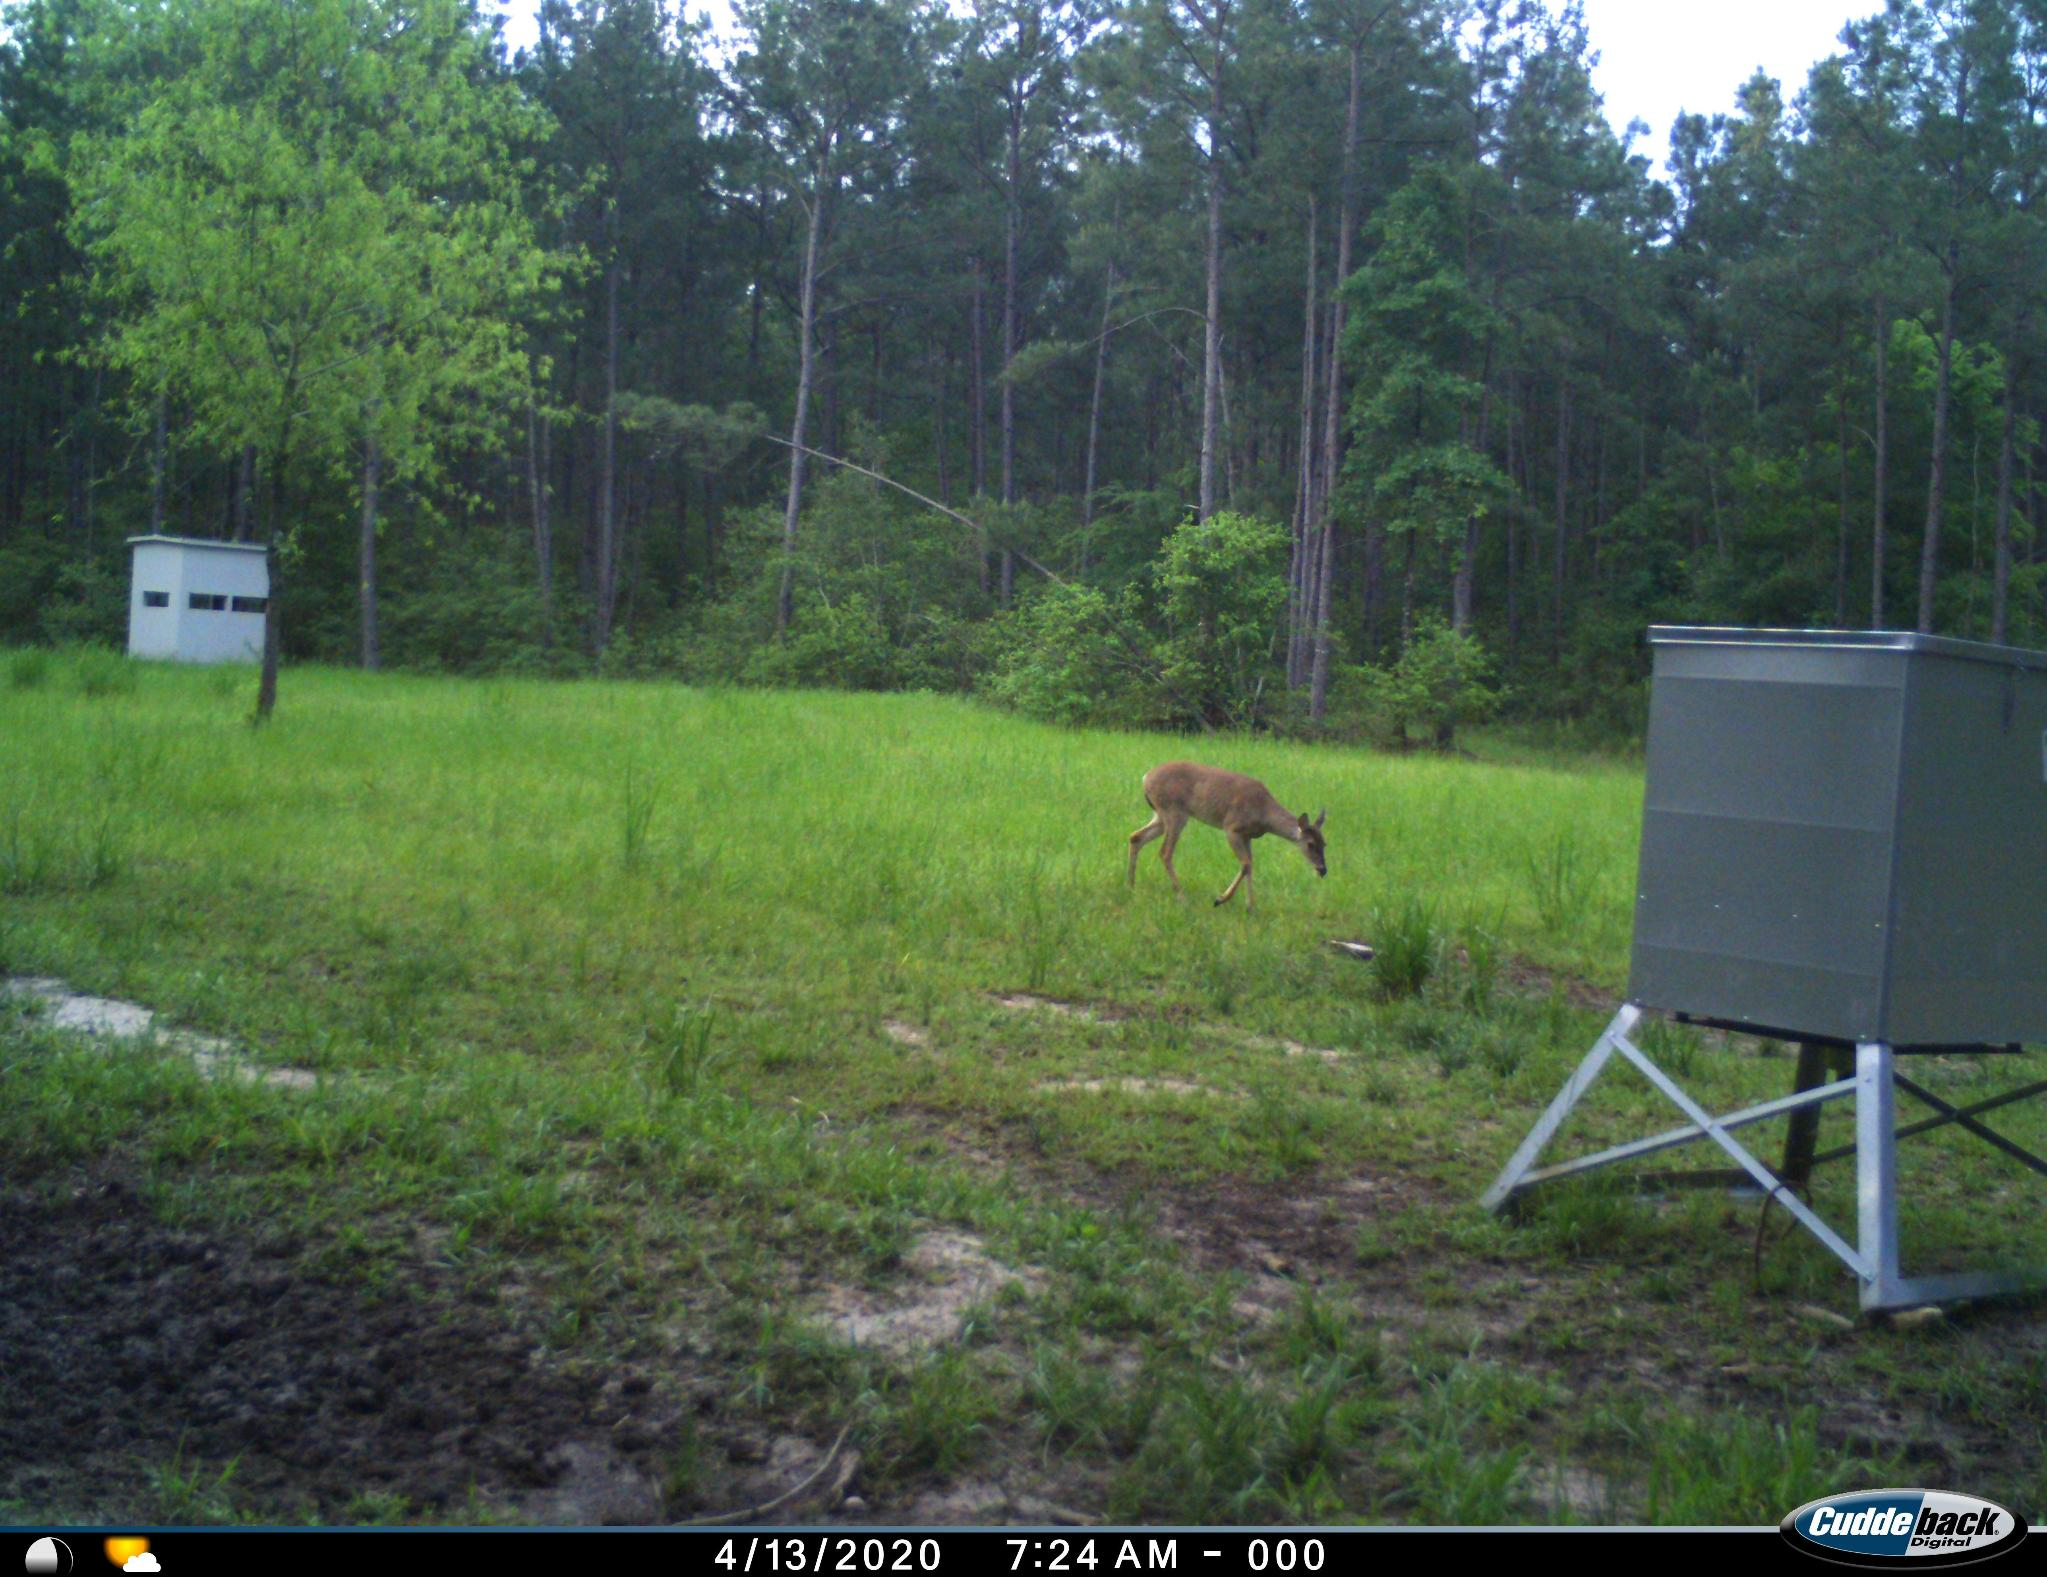Deer: (1105, 754, 1355, 931)
